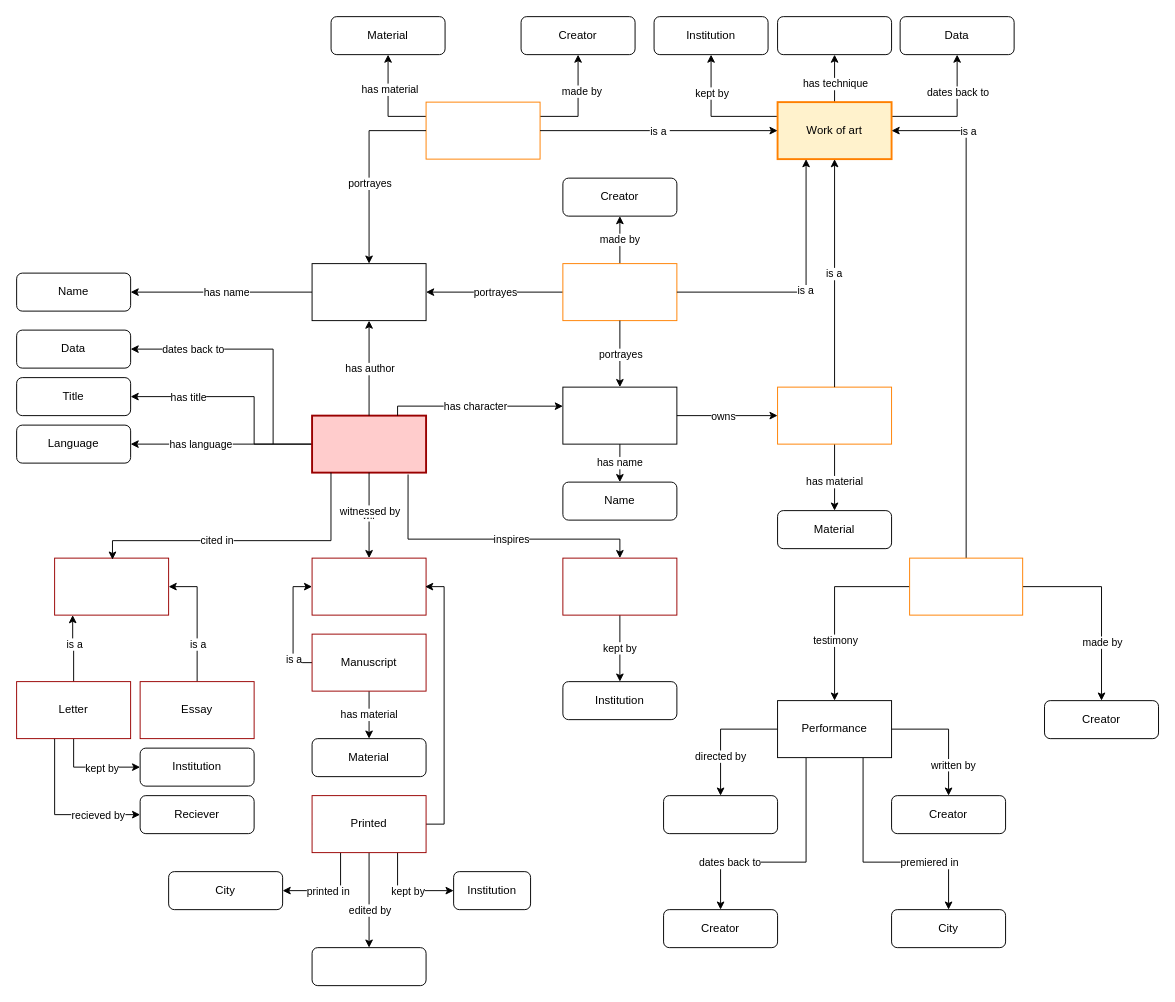
The diagram is 1175 pixels wide and 1002 high, and some of its shapes have lost their labels. The shapes that lost their labels are listed below. From the top down, each one's box as (x1, y1, x2, y2) in pixels, then its label:
(777, 16, 892, 55): Technique
(425, 101, 540, 159): Sculpture
(311, 263, 426, 321): Person
(562, 263, 677, 321): Painting
(562, 386, 677, 444): Character
(777, 386, 892, 444): Manufact
(311, 414, 427, 473): Text
(54, 557, 169, 615): Document
(311, 557, 426, 615): Book
(562, 557, 677, 615): Score
(909, 557, 1023, 615): Flyer
(663, 795, 778, 834): Director
(311, 947, 426, 986): Editor
